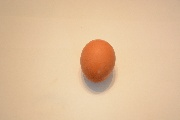egg: (81, 38, 116, 82)
